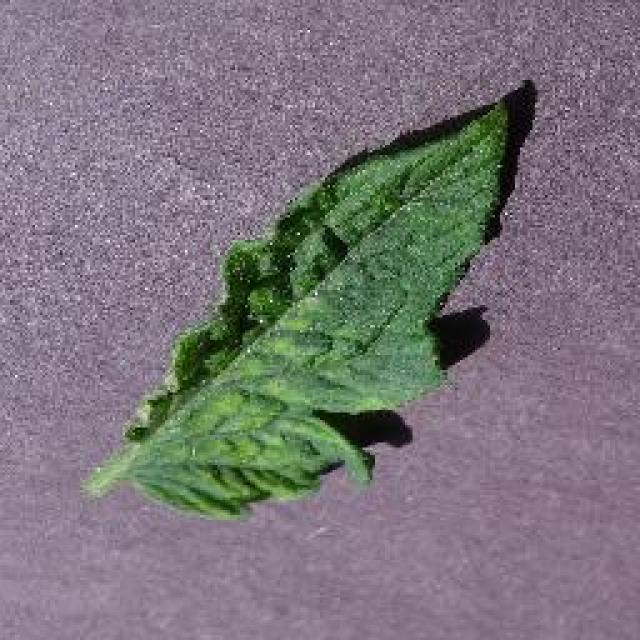Tomato spider mites leaf: (121, 105, 514, 520)
